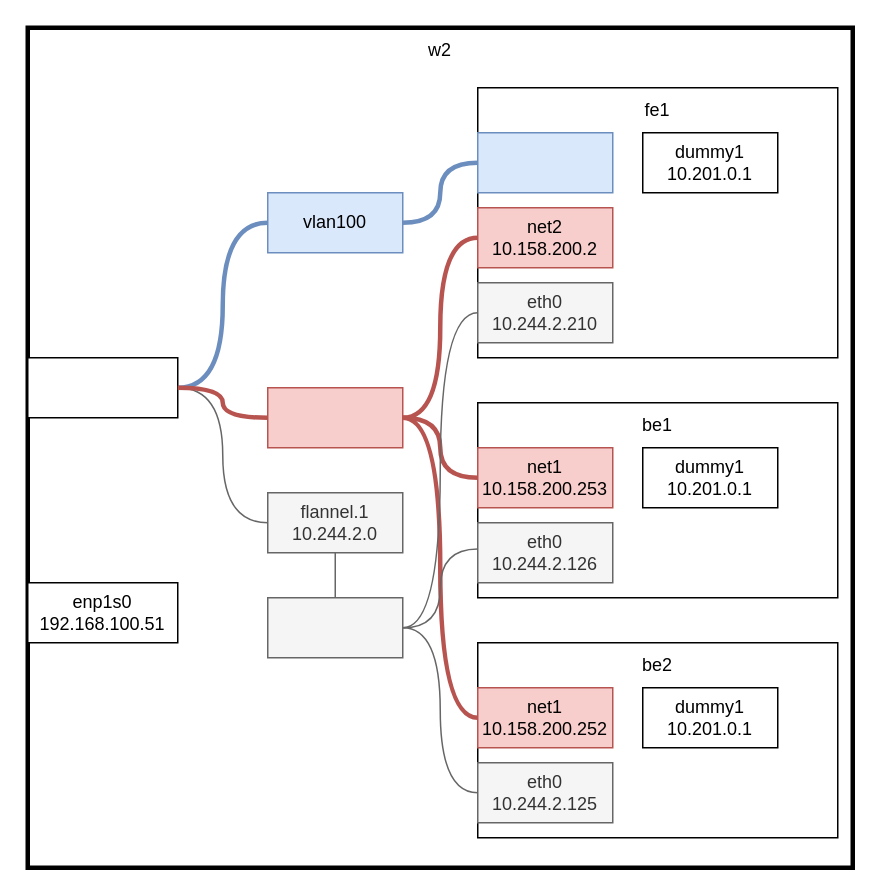
This 881x896 diagram has some shape labels left out. Each missing label, with the centre of its shape:
"cni0" goes at (334,627).
"enp4s0 10.158.0.3" goes at (102,387).
"net1 10.158.100.2" goes at (544,162).
"vlan200" goes at (334,417).
